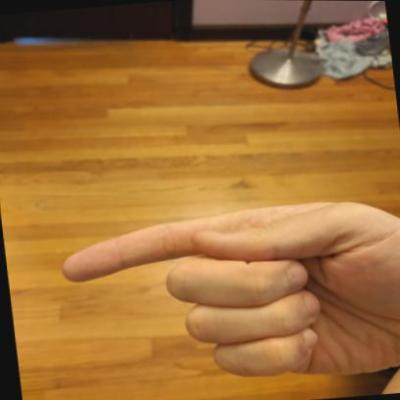hand: (44, 182, 399, 399)
